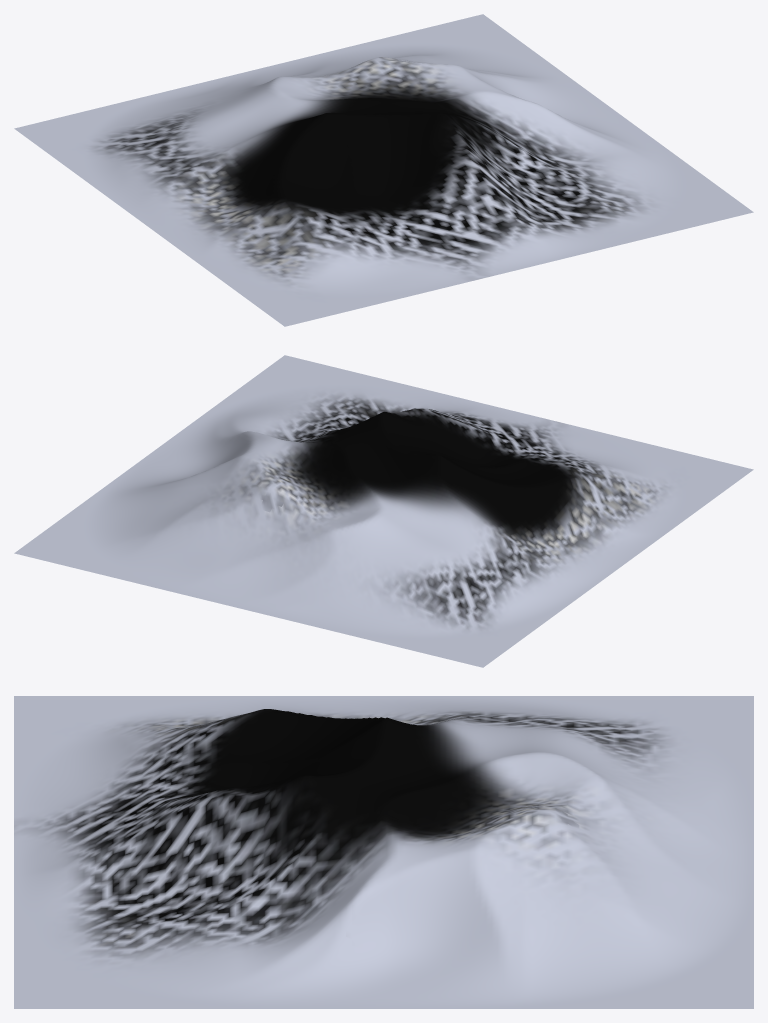
File: landscape_vc.fbx
3 views of the same model, one above another, from view 1: azimuth 30°, elevation 25°; view 2: azimuth 150°, elevation 25°; view 3: azimuth 270°, elevation 25° (orthographic). The views are drawn at different scales.
Visible parts, largest first — view 1: Landscape; view 2: Landscape; view 3: Landscape.
Part boxes in pixels (x1,y1,x2,y2): Landscape: [14, 14, 753, 326]; Landscape: [14, 355, 753, 667]; Landscape: [14, 696, 753, 1008].
Size of the model in its own units: 200 by 28.74 by 200.
